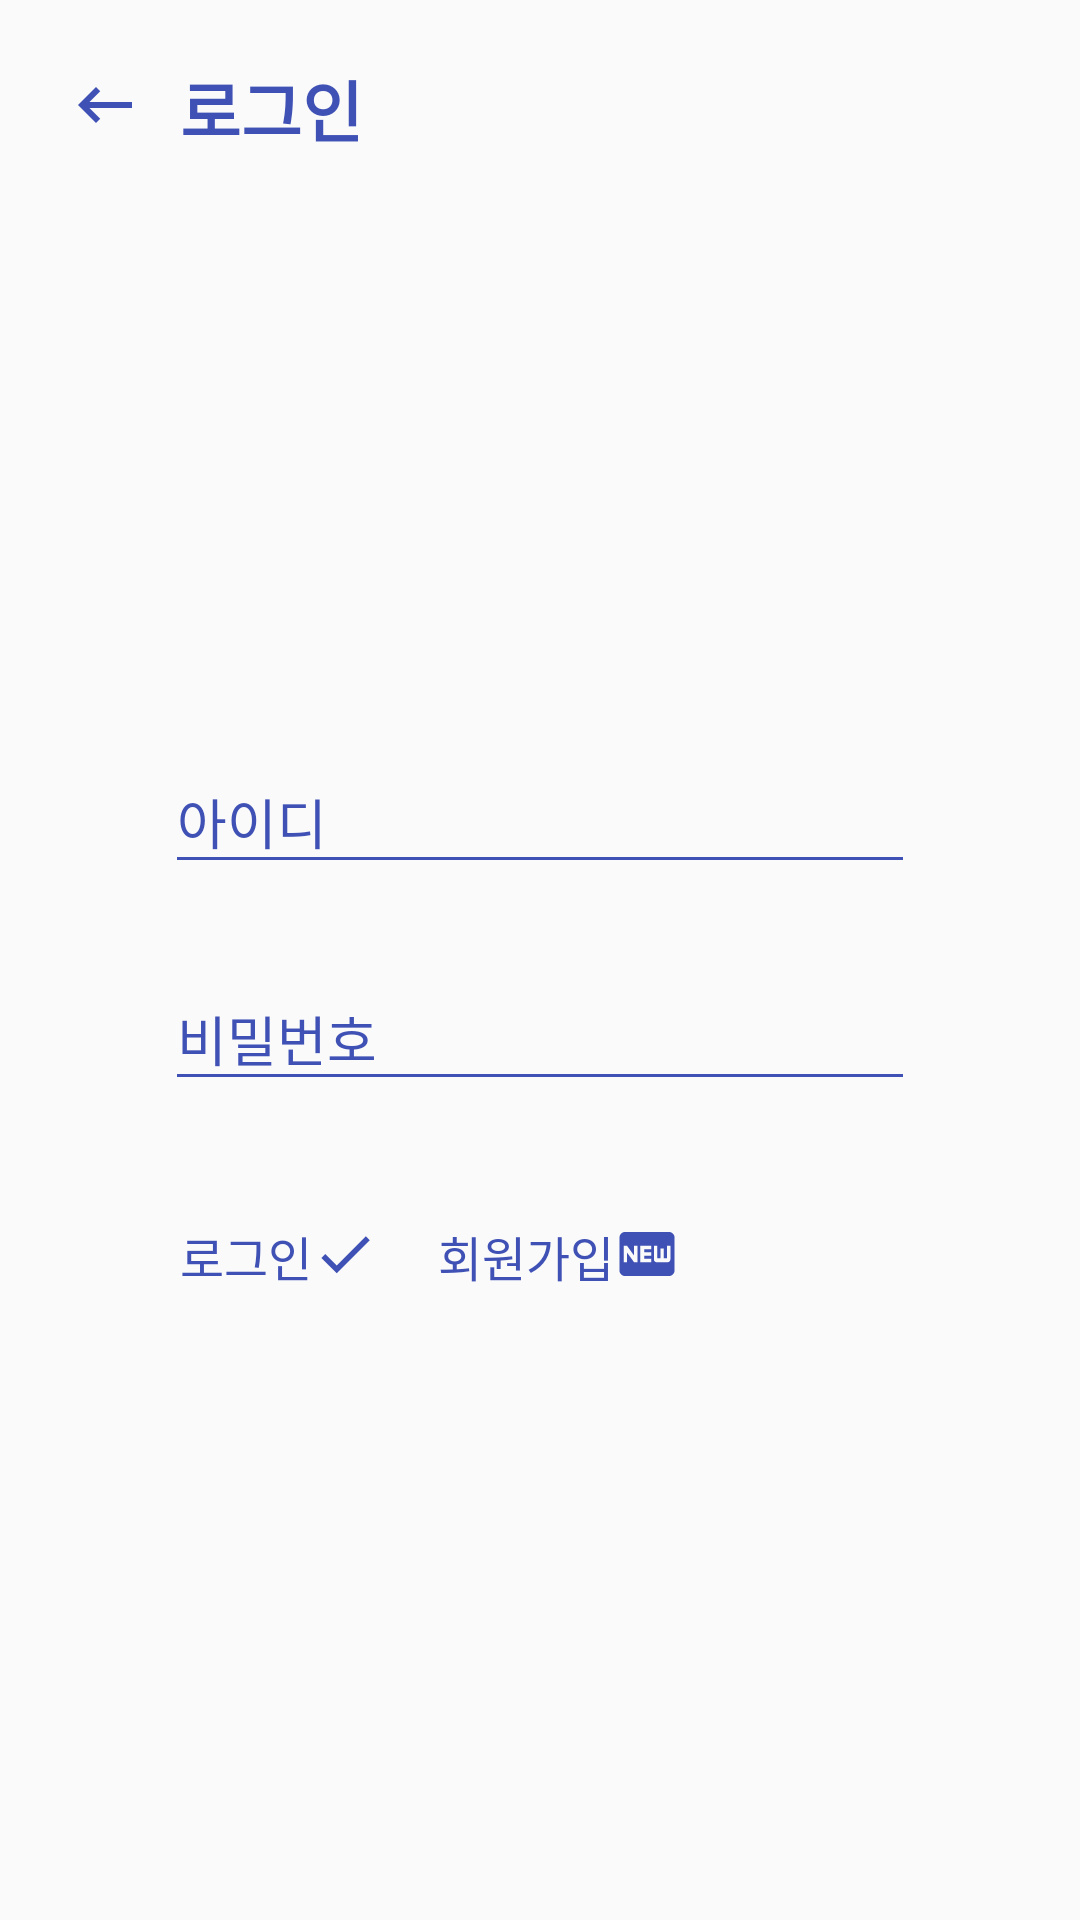

Icons on this 1080px x 1920px Android screen, each with its box as {"left": x1, "top": y1, "right": x2, "bottom": y2}:
check: {"left": 321, "top": 1236, "right": 370, "bottom": 1273}
keyboard backspace: {"left": 78, "top": 87, "right": 132, "bottom": 123}
